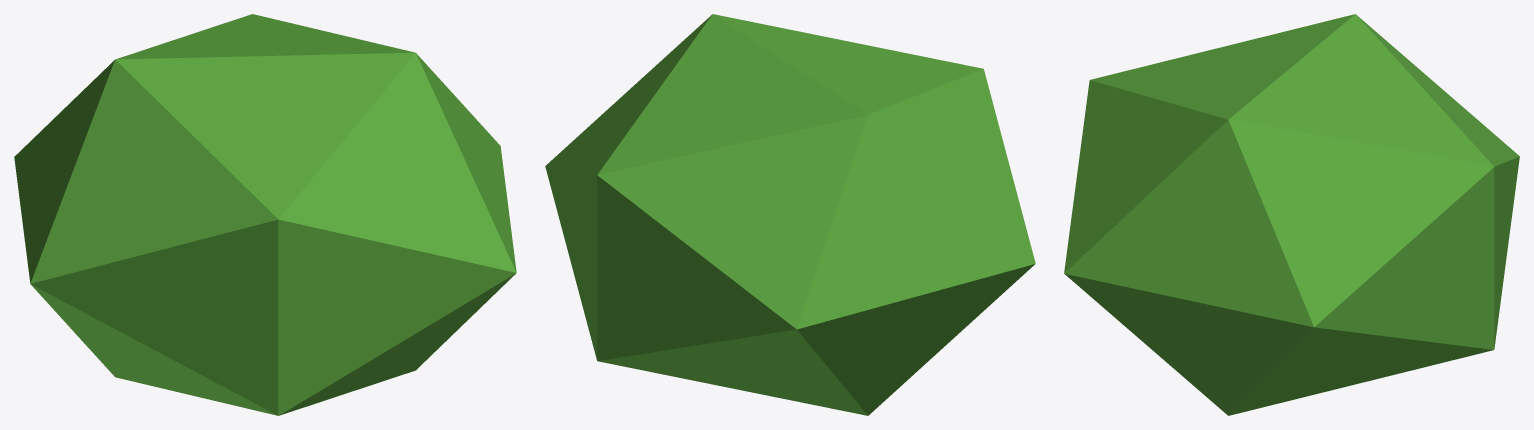
The model's file is bush_2.glb.
3 renders of one model, left to right at view 1: azimuth 30°, elevation 25°; view 2: azimuth 150°, elevation 25°; view 3: azimuth 270°, elevation 25°, orthographic. The views are drawn at different scales.
Visible parts, largest first — view 1: Bush; view 2: Bush; view 3: Bush.
Boxes of the visible parts, x1,y1,x2,y2 form: Bush: [14, 14, 516, 415]; Bush: [545, 14, 1035, 415]; Bush: [1064, 14, 1519, 415].
Size of the model in its own units: 1.49 by 0.9187 by 1.28.
